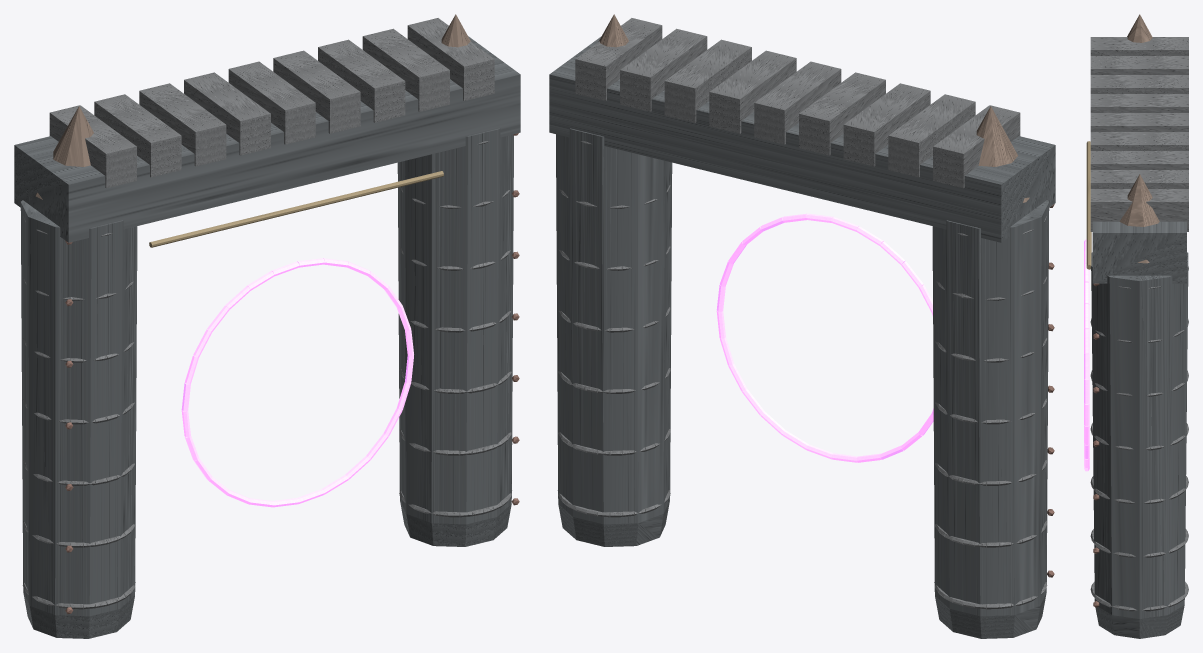
The model's file is castle_gate.glb.
The picture shows the model from 3 angles, left to right: view 1: azimuth 30°, elevation 25°; view 2: azimuth 150°, elevation 25°; view 3: azimuth 270°, elevation 25°; orthographic projection. The views are drawn at different scales.
Parts seen in each view (by area): view 1: stone, stone2, glowviolet, bronze, gold; view 2: stone, stone2, glowviolet, bronze; view 3: stone, stone2, bronze, glowviolet, gold, rust.
Part boxes in pixels (left/top/right/bottom): stone: left=14, top=36, right=520, bottom=638; stone2: left=22, top=18, right=512, bottom=609; glowviolet: left=181, top=258, right=413, bottom=507; bronze: left=35, top=14, right=470, bottom=199; gold: left=149, top=171, right=443, bottom=247; stone: left=549, top=37, right=1055, bottom=638; stone2: left=557, top=18, right=1047, bottom=609; glowviolet: left=716, top=213, right=933, bottom=462; bronze: left=598, top=14, right=1029, bottom=202; stone: left=1091, top=221, right=1188, bottom=638; stone2: left=1090, top=37, right=1188, bottom=611; bronze: left=1119, top=14, right=1159, bottom=263; glowviolet: left=1084, top=239, right=1089, bottom=471; gold: left=1086, top=141, right=1091, bottom=269; rust: left=1093, top=283, right=1099, bottom=607.
Size of the model in its own units: 10.16 by 10.4 by 2.22.
Materials: 6 (6 with a texture image).
